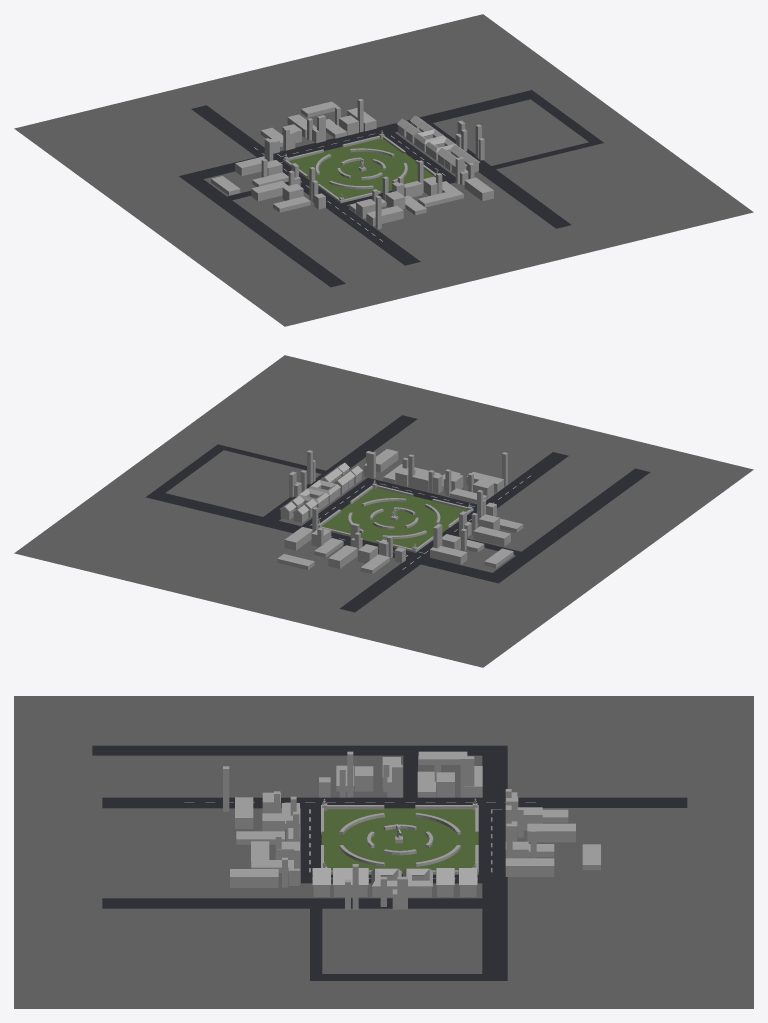
The model's file is Park_001.fbx.
3 renders of one model, top to bottom at view 1: azimuth 30°, elevation 25°; view 2: azimuth 150°, elevation 25°; view 3: azimuth 270°, elevation 25°, orthographic. The views are drawn at different scales.
Visible parts, largest first — view 1: pPlane2, pCube84, pPlane1, pCylinder4; view 2: pPlane2, pCube84, pPlane1, pCylinder4, pCube39; view 3: pPlane2, pCube84, pPlane1, pCube54 (×2), pCylinder4, pCube52, pCube60, pCube68, pCube22, pCube34, pCube77, pCube56.
Boxes of the visible parts, bbox=[...] form: pPlane2: bbox=[14, 14, 753, 326]; pCube84: bbox=[179, 90, 603, 287]; pPlane1: bbox=[289, 138, 433, 199]; pCylinder4: bbox=[315, 148, 407, 189]; pPlane2: bbox=[14, 355, 753, 667]; pCube84: bbox=[146, 415, 650, 612]; pPlane1: bbox=[321, 488, 466, 548]; pCylinder4: bbox=[348, 498, 440, 538]; pCube39: bbox=[473, 526, 510, 546]; pPlane2: bbox=[14, 696, 753, 1008]; pCube84: bbox=[92, 745, 687, 980]; pPlane1: bbox=[321, 808, 478, 874]; pCube54 (×2): bbox=[230, 823, 575, 887]; pCylinder4: bbox=[339, 813, 460, 866]; pCube52: bbox=[505, 858, 554, 876]; pCube60: bbox=[403, 868, 432, 897]; pCube68: bbox=[371, 868, 401, 897]; pCube22: bbox=[235, 797, 253, 828]; pCube34: bbox=[418, 751, 467, 764]; pCube77: bbox=[327, 805, 478, 809]; pCube56: bbox=[236, 831, 284, 844].
Size of the model in its own units: 236 by 15.5 by 236.
